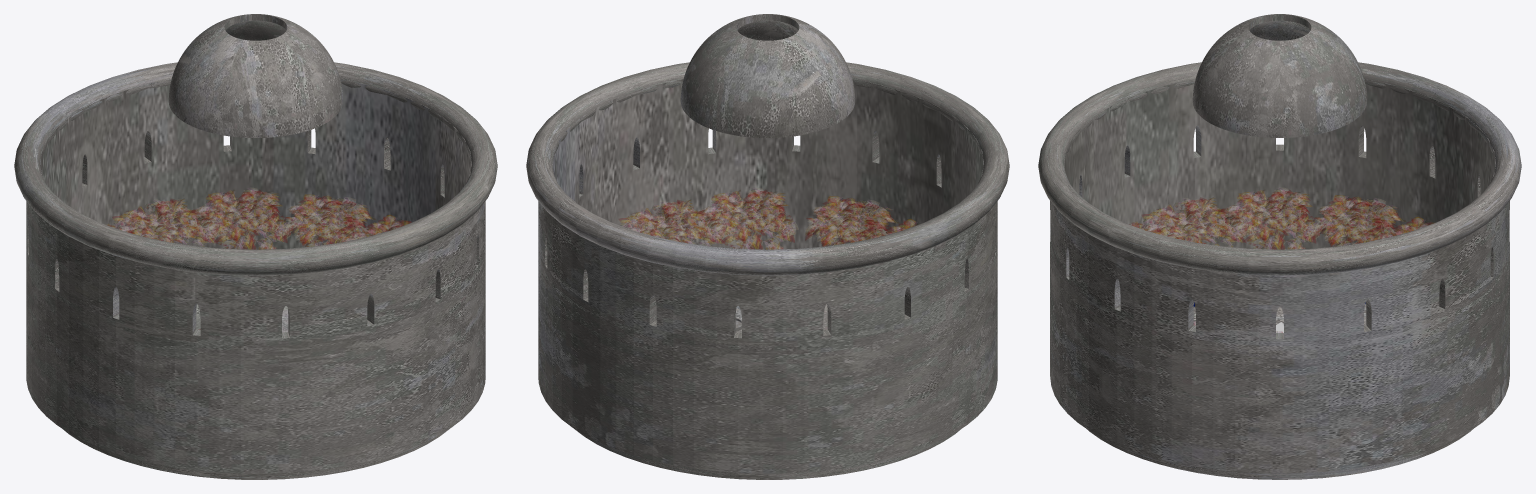
File: CV_Heart_color_2.gltf
The picture shows the model from 3 angles, left to right: view 1: azimuth 30°, elevation 25°; view 2: azimuth 150°, elevation 25°; view 3: azimuth 270°, elevation 25°; orthographic projection.
Parts seen in each view (by area): view 1: Parete, Torus, Cupoletta, Tree, Pavimento; view 2: Parete, Torus, Cupoletta, Tree, Pavimento; view 3: Parete, Torus, Cupoletta, Tree, Pavimento.
Part boxes in pixels (left/top/right/bottom): Parete: left=26, top=79, right=485, bottom=473; Torus: left=14, top=62, right=497, bottom=275; Cupoletta: left=168, top=14, right=343, bottom=137; Tree: left=106, top=188, right=411, bottom=329; Pavimento: left=63, top=304, right=448, bottom=479; Parete: left=538, top=79, right=997, bottom=473; Torus: left=526, top=62, right=1009, bottom=275; Cupoletta: left=680, top=14, right=855, bottom=137; Tree: left=619, top=188, right=918, bottom=329; Pavimento: left=575, top=304, right=960, bottom=479; Parete: left=1050, top=79, right=1509, bottom=473; Torus: left=1038, top=62, right=1521, bottom=275; Cupoletta: left=1192, top=14, right=1367, bottom=137; Tree: left=1129, top=188, right=1433, bottom=332; Pavimento: left=1087, top=304, right=1472, bottom=479.
Bounding box in the file's own units: 8.18 × 6.75 × 8.18.
3 materials, 2 textured.
